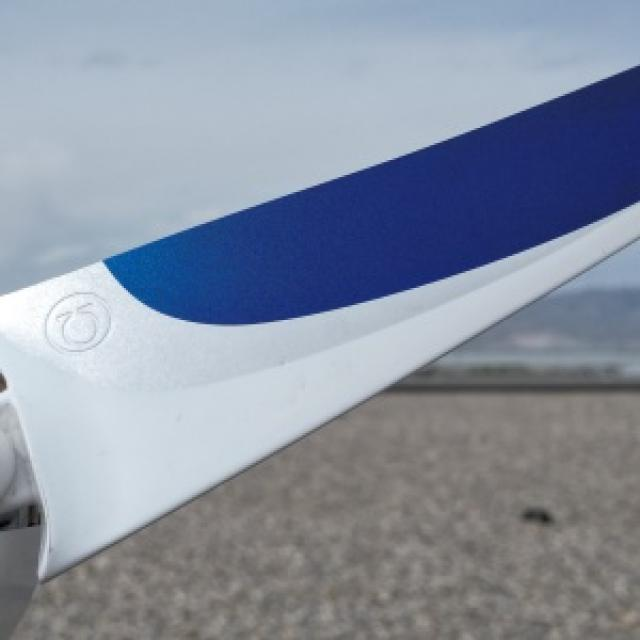healthy: (11, 390, 638, 638)
